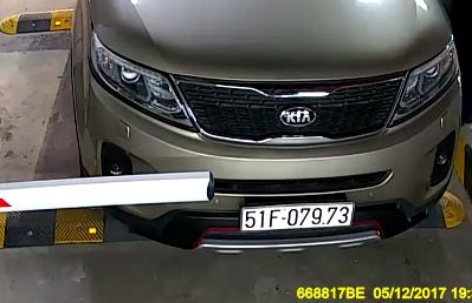plate: (241, 197, 357, 237)
